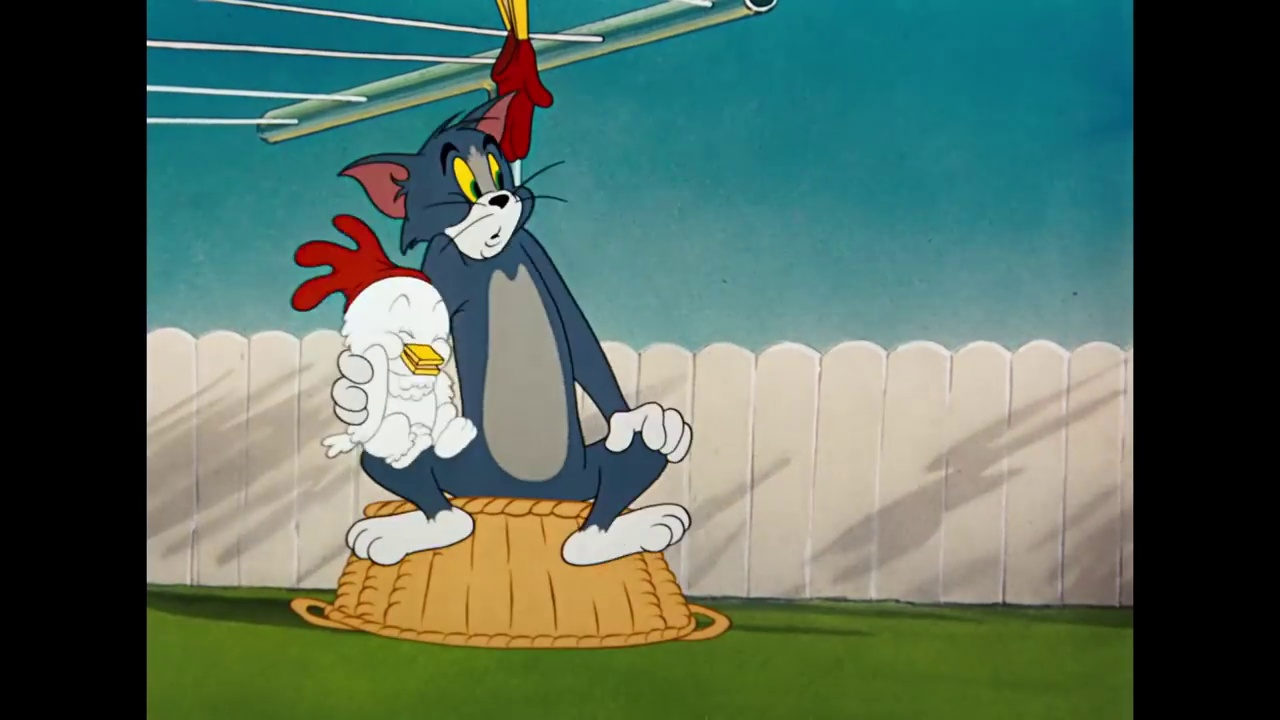tom: (335, 90, 545, 263)
